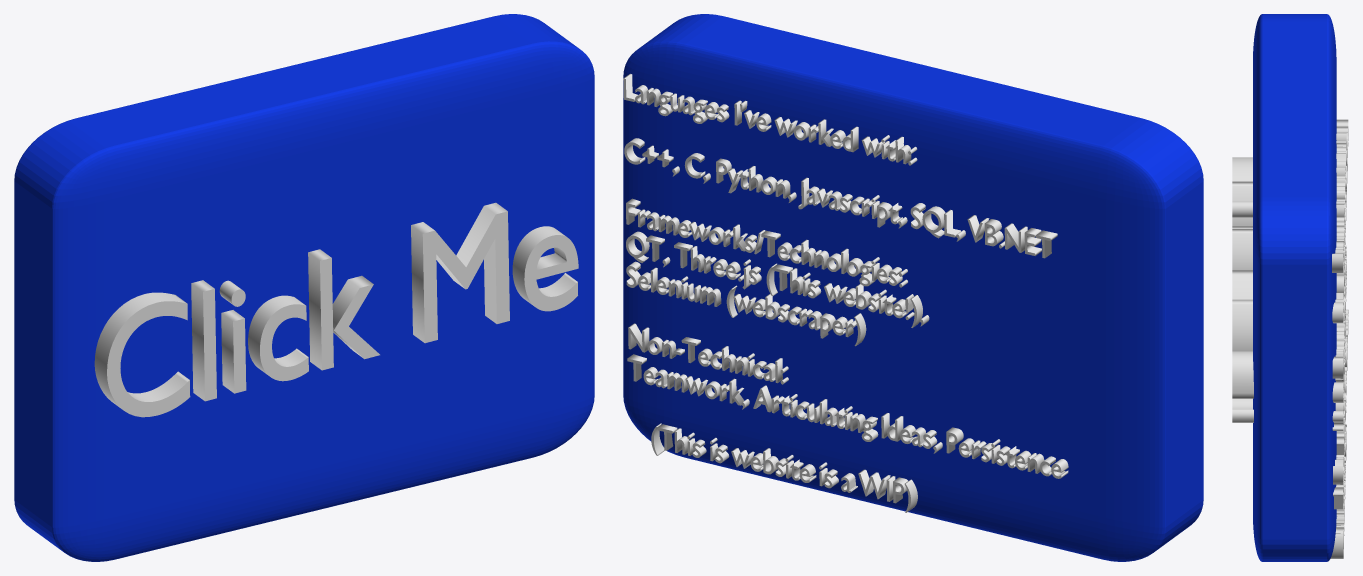
File: Skills.glb
3 views of the same model, side by side, from view 1: azimuth 30°, elevation 25°; view 2: azimuth 150°, elevation 25°; view 3: azimuth 270°, elevation 25° (orthographic). The views are drawn at different scales.
Parts seen in each view (by area): view 1: Cube, Text; view 2: Cube, Text.001; view 3: Cube, Text, Text.001.
Boxes of the visible parts, x1,y1,x2,y2 form: Cube: (14, 14, 594, 561); Text: (94, 202, 578, 417); Cube: (623, 14, 1203, 561); Text.001: (623, 73, 1068, 512); Cube: (1253, 14, 1336, 561); Text: (1232, 157, 1253, 422); Text.001: (1330, 119, 1348, 558).
Size of the model in its own units: 412 by 301 by 88.61.
